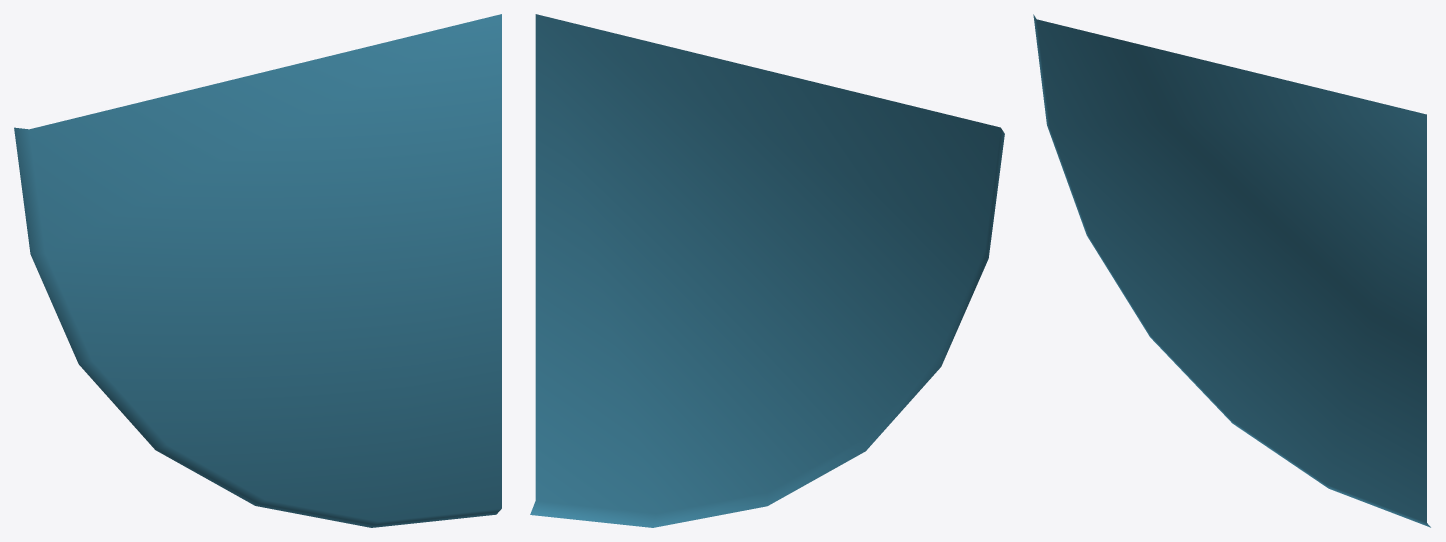
Rendered from corner_bottom.fbx.
The picture shows the model from 3 angles, left to right: view 1: azimuth 30°, elevation 25°; view 2: azimuth 150°, elevation 25°; view 3: azimuth 330°, elevation 25°; orthographic projection. The views are drawn at different scales.
Visible parts, largest first — view 1: PoolTile_CornerBottom; view 2: PoolTile_CornerBottom; view 3: PoolTile_CornerBottom.
Part boxes in pixels (bbox=[...]): PoolTile_CornerBottom: bbox=[14, 14, 501, 527]; PoolTile_CornerBottom: bbox=[530, 14, 1004, 527]; PoolTile_CornerBottom: bbox=[1033, 14, 1430, 527].
Size of the model in its own units: 100 by 100 by 2.
